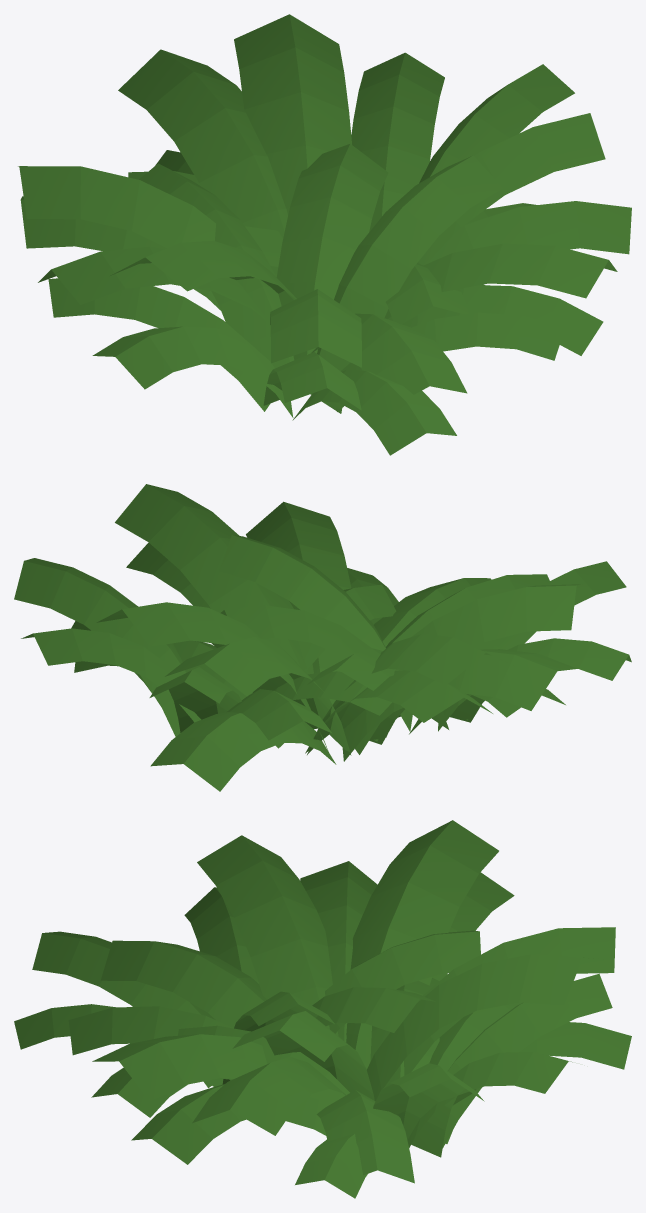
The model's file is fern_clump_c.glb.
3 renders of one model, top to bottom at view 1: azimuth 30°, elevation 25°; view 2: azimuth 150°, elevation 25°; view 3: azimuth 270°, elevation 25°, orthographic. The views are drawn at different scales.
Visible parts, largest first — view 1: fern_clump_c_lod0; view 2: fern_clump_c_lod0; view 3: fern_clump_c_lod0.
Part boxes in pixels (left/top/right/bottom): fern_clump_c_lod0: left=18, top=14, right=631, bottom=455; fern_clump_c_lod0: left=14, top=484, right=631, bottom=791; fern_clump_c_lod0: left=14, top=820, right=631, bottom=1198.
Size of what is drawn, in the model's own units: 1.66 by 0.6151 by 1.69.
